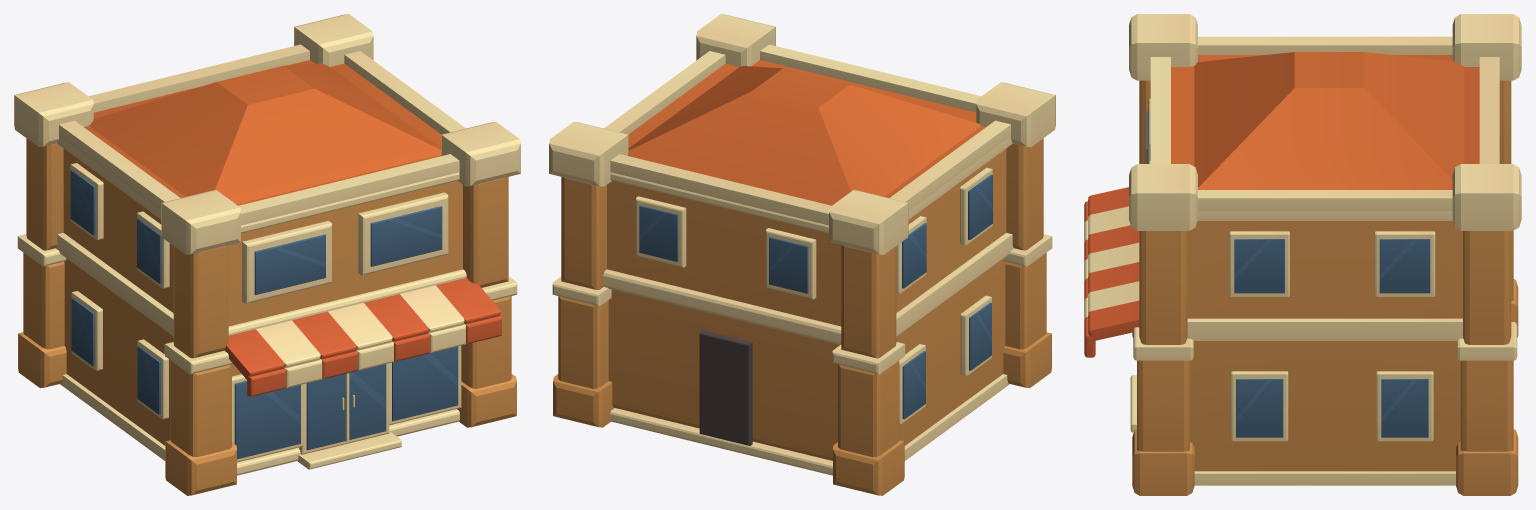
The model's file is 03B-market-threejs.glb.
3 renders of one model, left to right at view 1: azimuth 30°, elevation 25°; view 2: azimuth 150°, elevation 25°; view 3: azimuth 270°, elevation 25°, orthographic. The views are drawn at different scales.
Parts seen in each view (by area): view 1: 03B / trim, 03B / wall, 03B / roof, 03B / glass, 03B / accent; view 2: 03B / wall, 03B / trim, 03B / roof, 03B / glass, 03B / dark; view 3: 03B / wall, 03B / trim, 03B / roof, 03B / glass, 03B / accent.
Boxes of the visible parts, x1=… form: 03B / trim: x1=14, y1=14, x2=520, y2=475; 03B / wall: x1=18, y1=138, x2=516, y2=495; 03B / roof: x1=84, y1=60, x2=441, y2=205; 03B / glass: x1=70, y1=170, x2=458, y2=459; 03B / accent: x1=225, y1=277, x2=501, y2=396; 03B / wall: x1=553, y1=138, x2=1051, y2=495; 03B / trim: x1=549, y1=14, x2=1055, y2=475; 03B / roof: x1=627, y1=60, x2=985, y2=205; 03B / glass: x1=639, y1=174, x2=992, y2=419; 03B / dark: x1=699, y1=330, x2=752, y2=445; 03B / wall: x1=1132, y1=80, x2=1518, y2=495; 03B / trim: x1=1084, y1=14, x2=1521, y2=485; 03B / roof: x1=1171, y1=52, x2=1479, y2=189; 03B / glass: x1=1146, y1=111, x2=1430, y2=437; 03B / accent: x1=1084, y1=187, x2=1139, y2=357.
Bounding box in the file's own units: 6.33 × 5.57 × 6.53.
6 materials, 6 textured.
